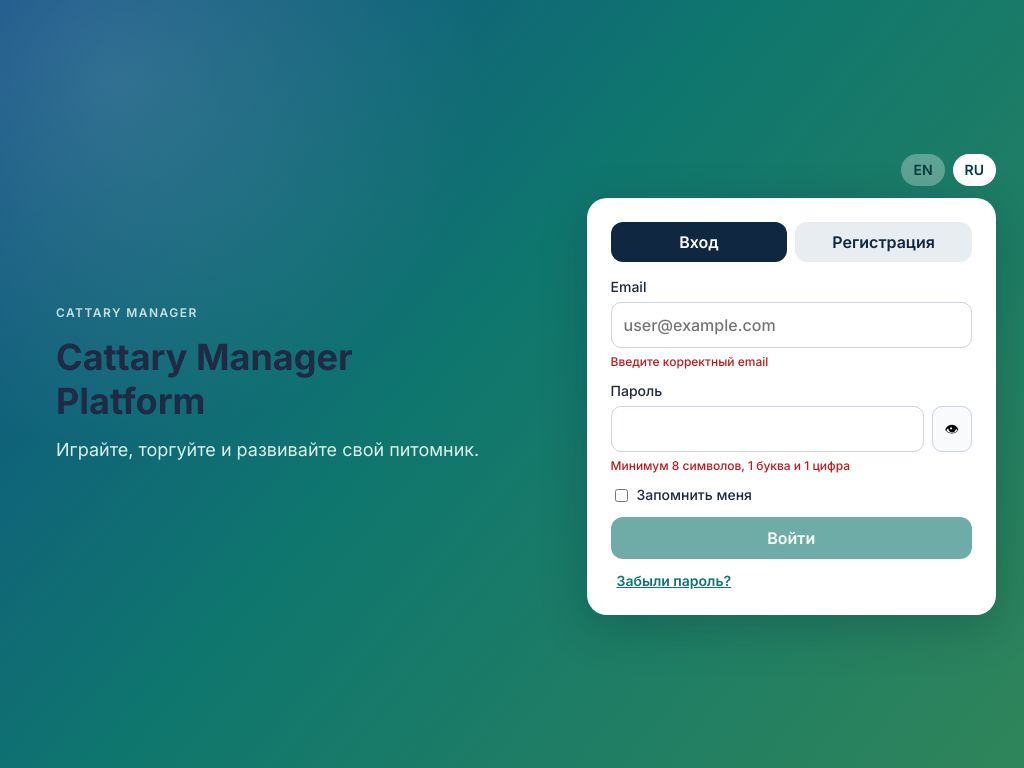
LoginPage › shows verification sent state after successful registration
Click the button "Регистрация" at (884, 242), box [795,222,972,262]
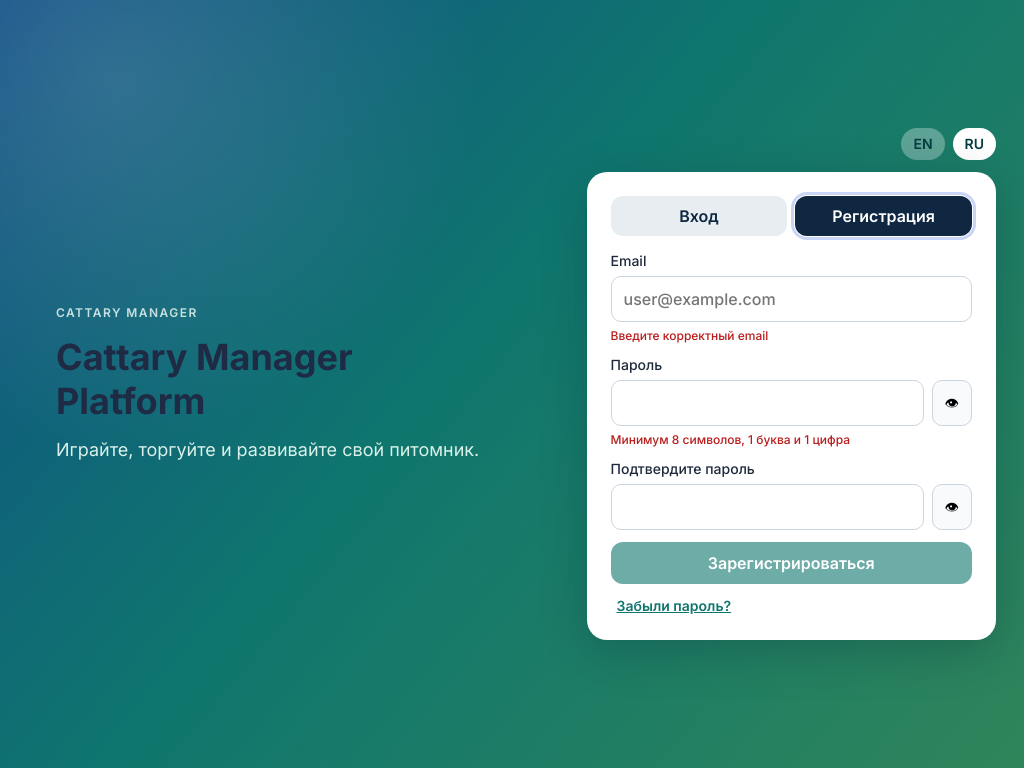
Type "new@example.com" into the field with placeholder "user@example.com" at (791, 299), box [610,276,972,322]
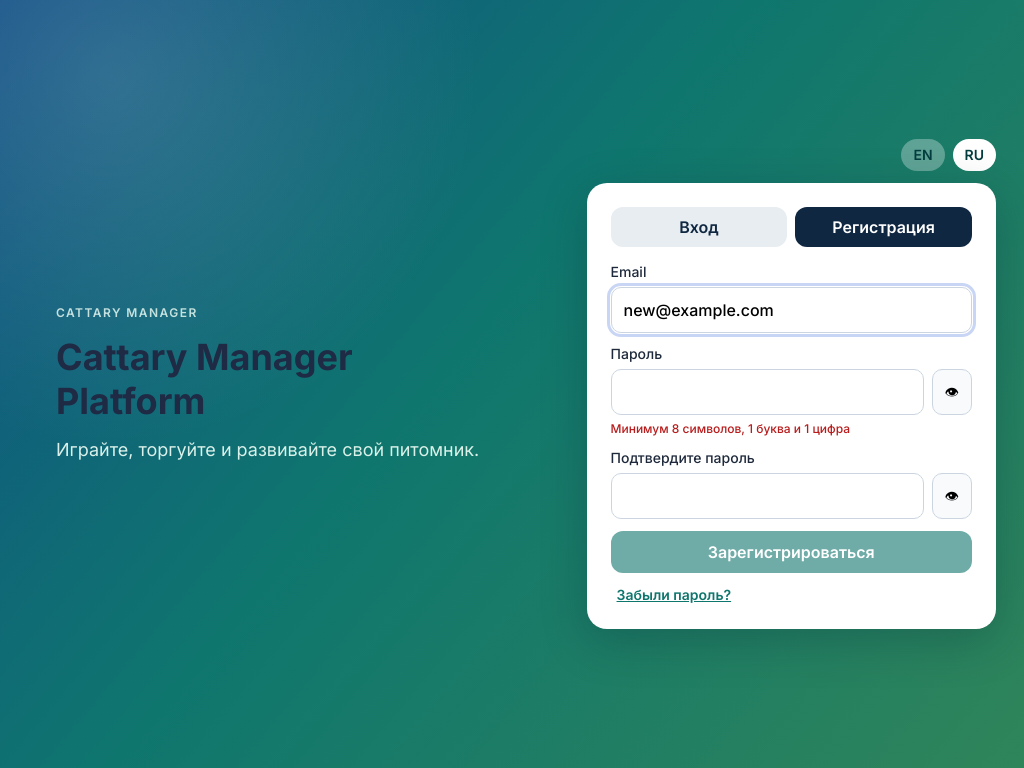
Type "Password1" into the password field labelled "Пароль 👁 Минимум 8 символов, 1 буква и 1 цифра" at (767, 392), box [610,369,924,415]
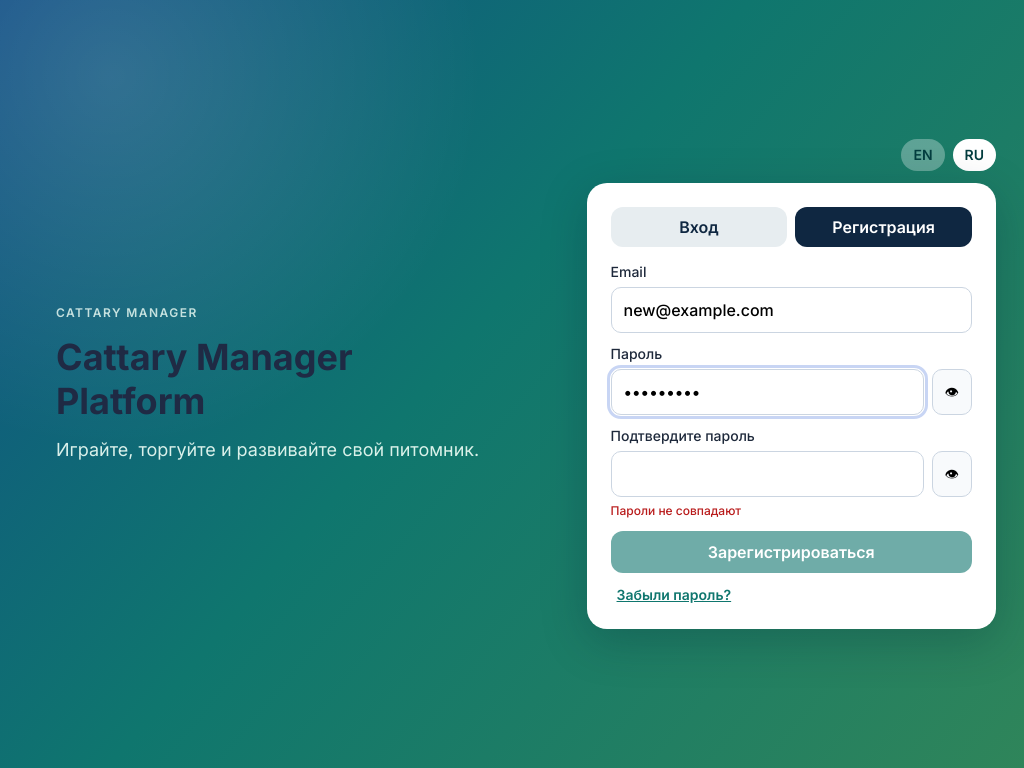
Type "Password1" into the password field labelled "Подтвердите пароль 👁 Пароли не совпадают" at (767, 474), box [610,451,924,497]
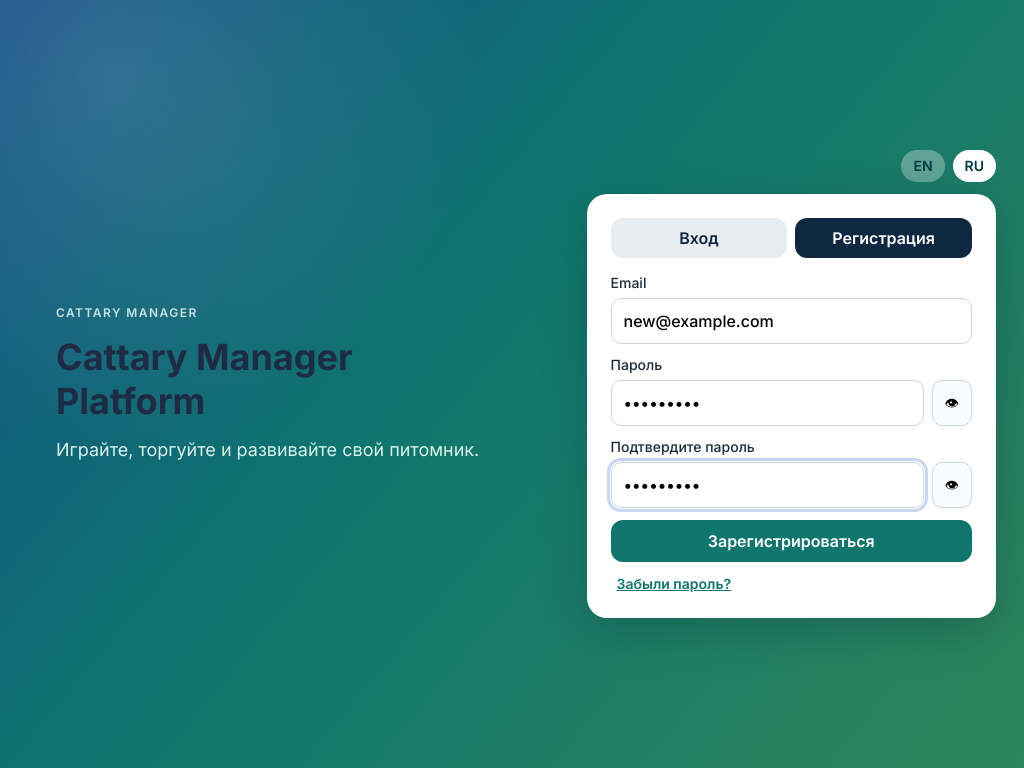
Now the button "Зарегистрироваться" is enabled
Click the button "Зарегистрироваться" at (791, 541), box [610,520,972,562]
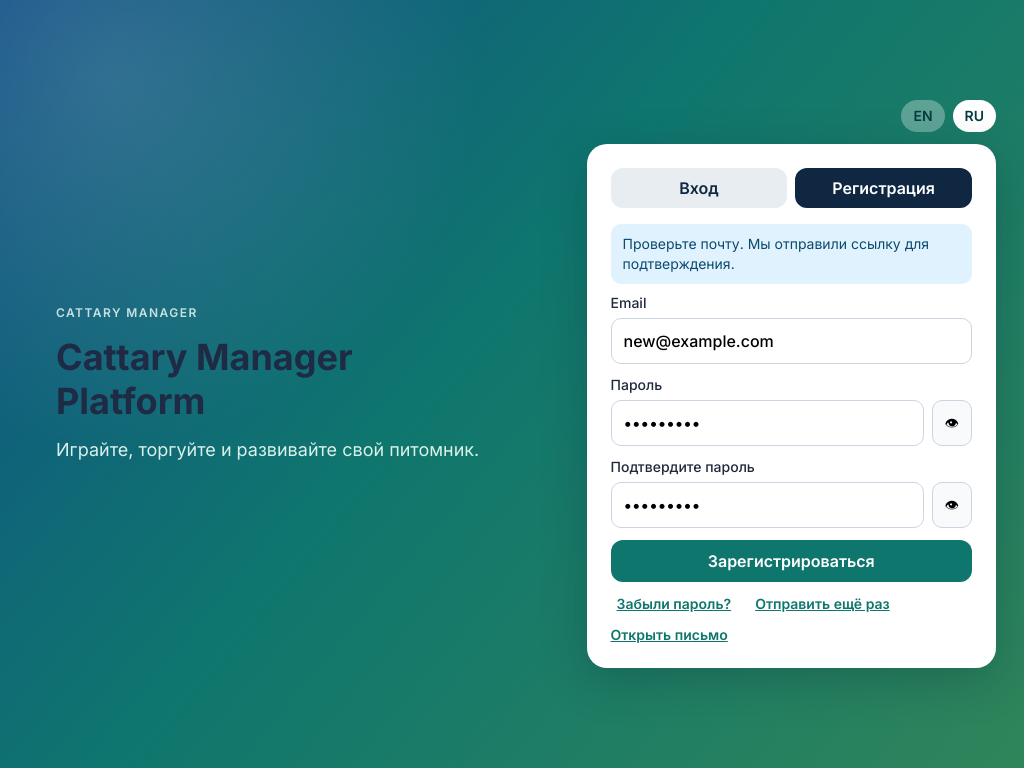
Now the text "Проверьте почту. Мы отправили ссылку для подтверждения." is shown, box [610,224,972,284]
Now the link "Открыть письмо" is shown, box [610,626,728,644]
